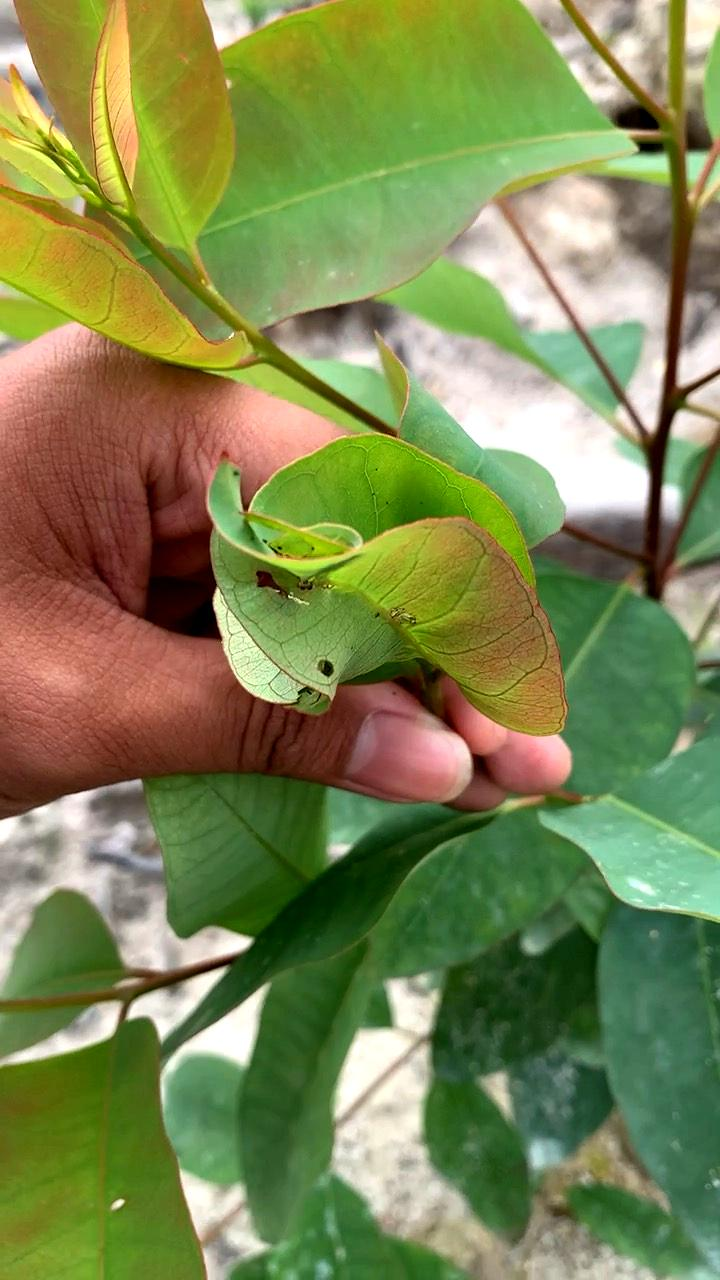Leaf Roller - Leaf: (171, 418, 593, 792)
